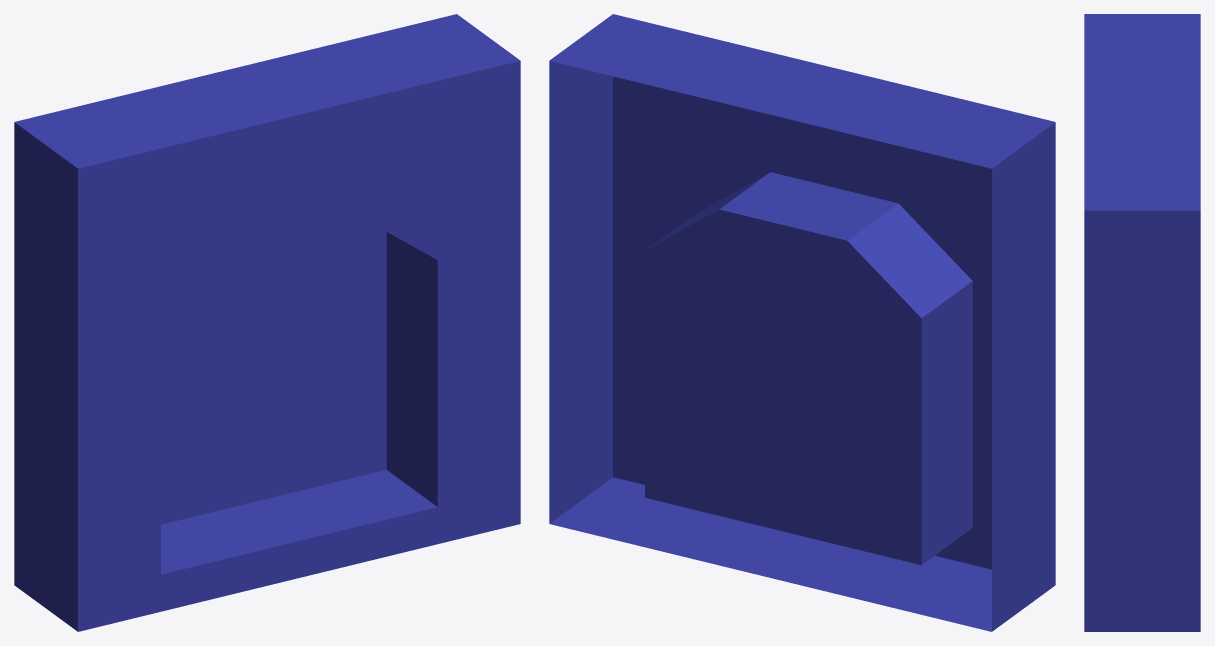
File: fireplace_05x2x2.FBX
The picture shows the model from 3 angles, left to right: view 1: azimuth 30°, elevation 25°; view 2: azimuth 150°, elevation 25°; view 3: azimuth 270°, elevation 25°; orthographic projection. The views are drawn at different scales.
Visible parts, largest first — view 1: fireplace_05x2x2; view 2: fireplace_05x2x2; view 3: fireplace_05x2x2.
Part boxes in pixels (box(x1,y1,x2,y2)): fireplace_05x2x2: box(14, 14, 520, 631); fireplace_05x2x2: box(549, 14, 1055, 631); fireplace_05x2x2: box(1084, 14, 1200, 631).
Bounding box in the file's own units: 2 × 2 × 0.5.
